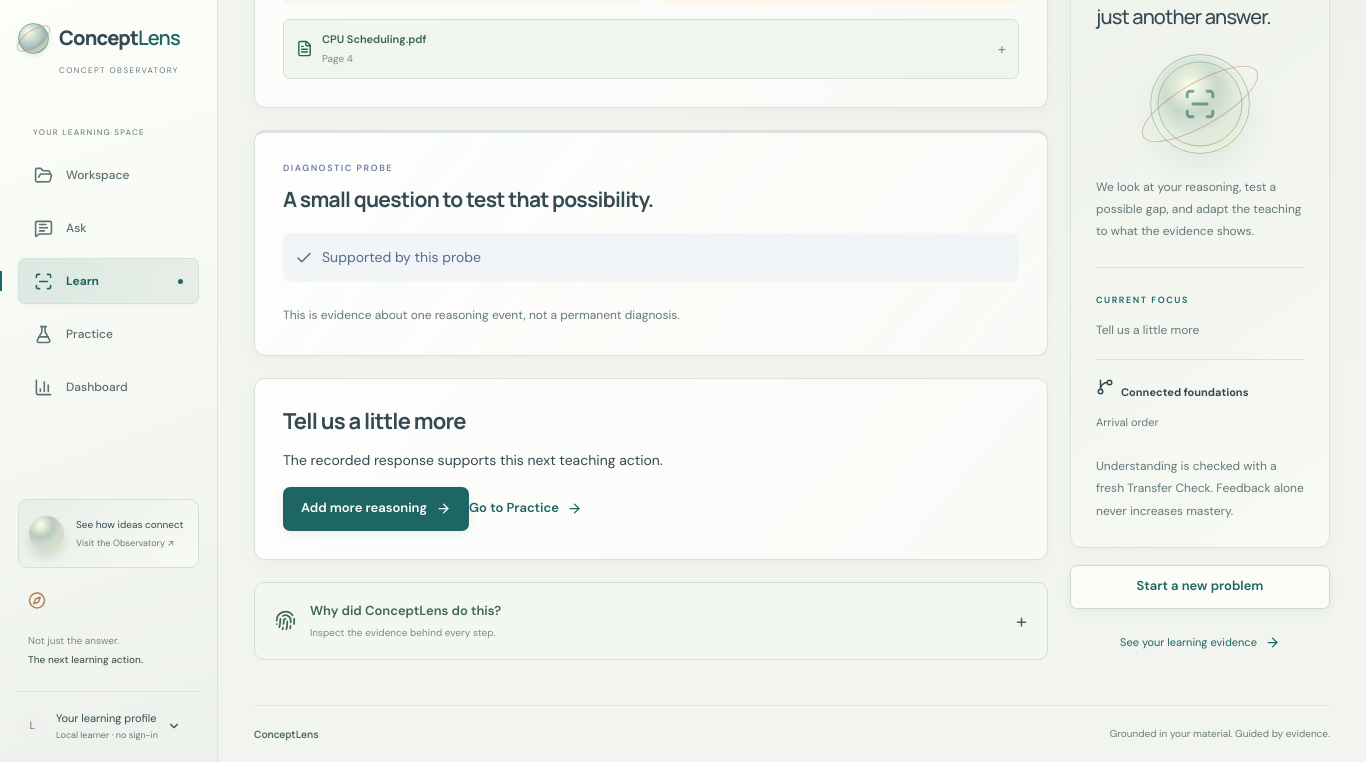
Test: application contracts › lets the learner add reasoning to the same real attempt when the server requests it
(page scrolled)
Click the button "Add more reasoning" at (376, 509), box [283, 487, 469, 531]
(page scrolled)
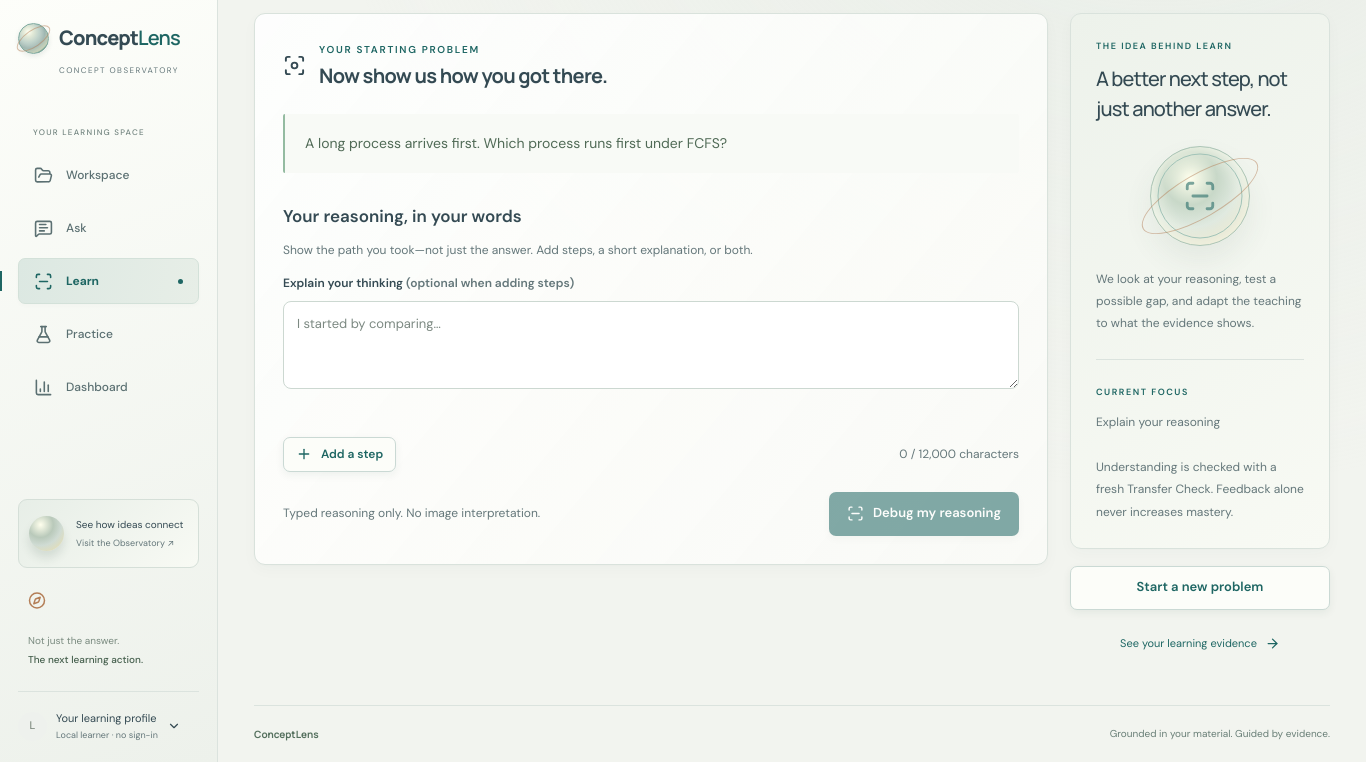
Check: the text box labelled "Explain your thinking (optional when adding steps)" is shown, box [283, 301, 1019, 389]
